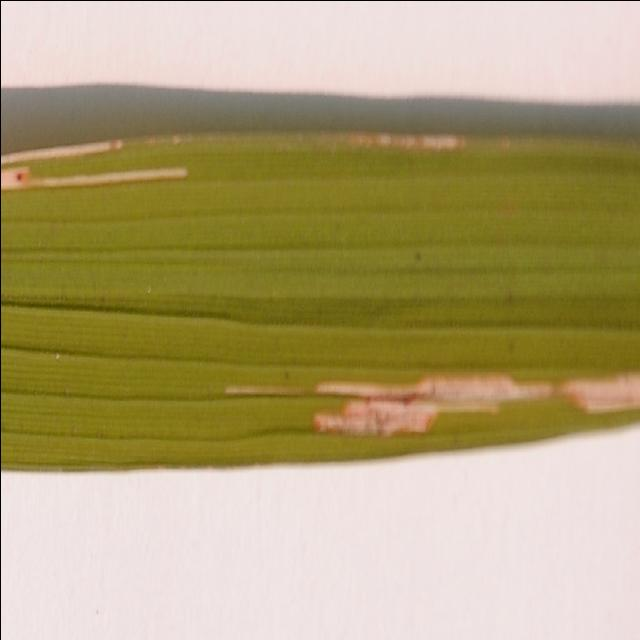Unhealthy: (224, 372, 551, 435), (554, 373, 640, 412), (0, 137, 123, 164), (36, 164, 187, 185), (345, 128, 466, 152), (0, 165, 34, 191)
